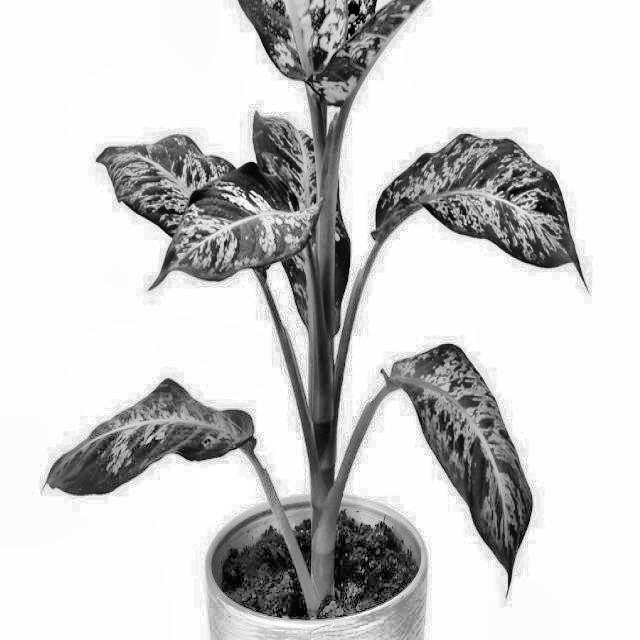plants: (129, 0, 487, 638)
